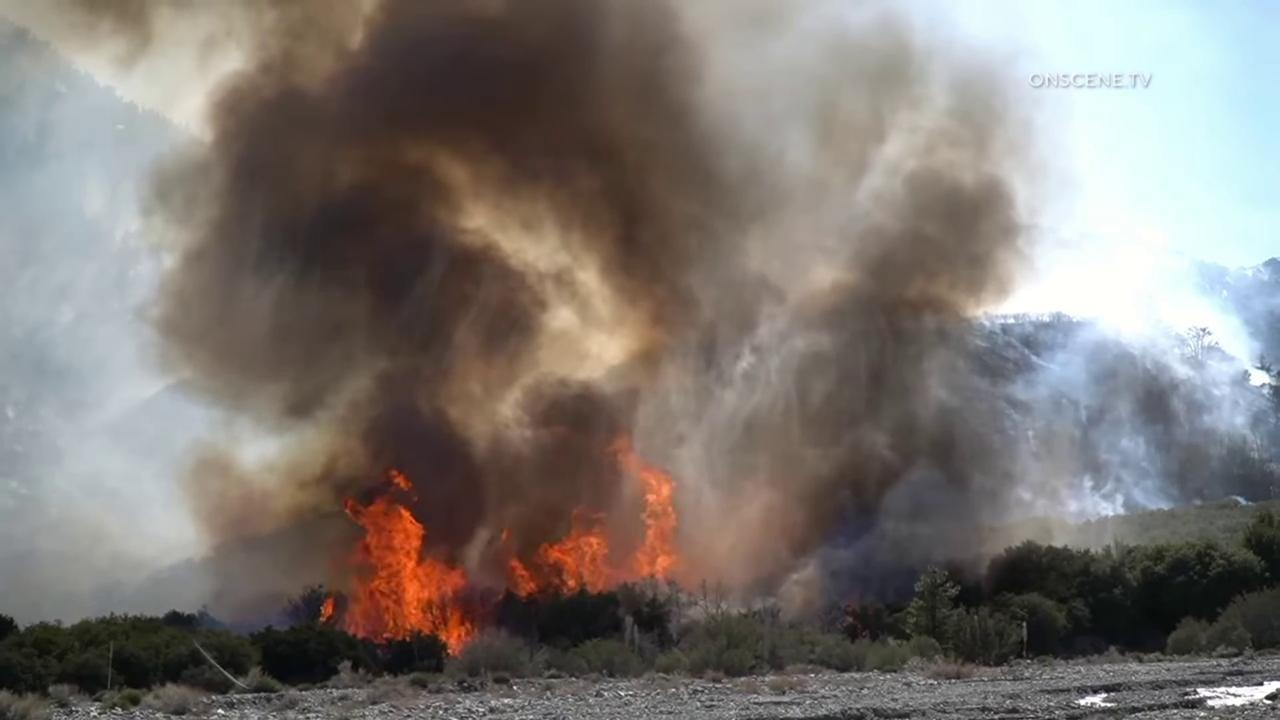fire: (501, 438, 679, 604), (336, 469, 480, 658), (319, 597, 335, 625)
smoke: (0, 0, 1280, 629)
